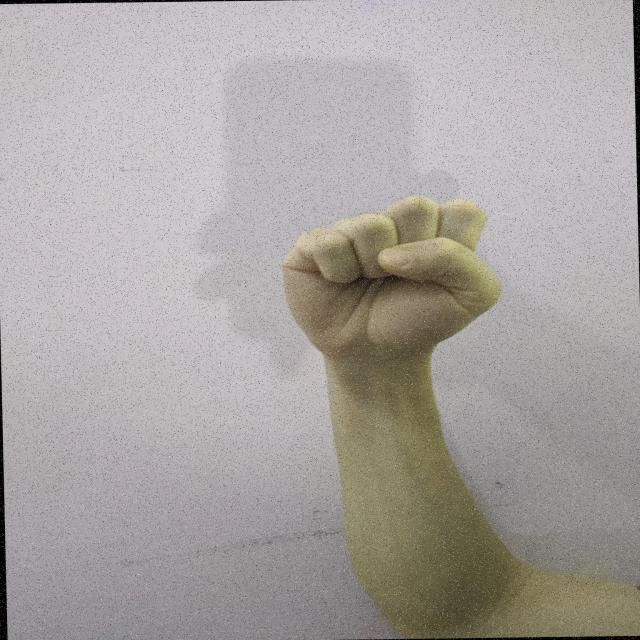S: (273, 192, 509, 366)
